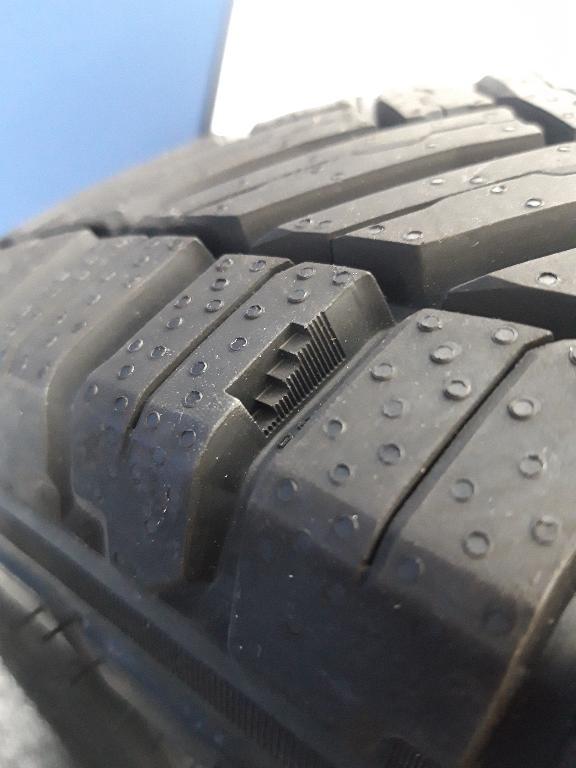temoin:100: (221, 309, 350, 441)
